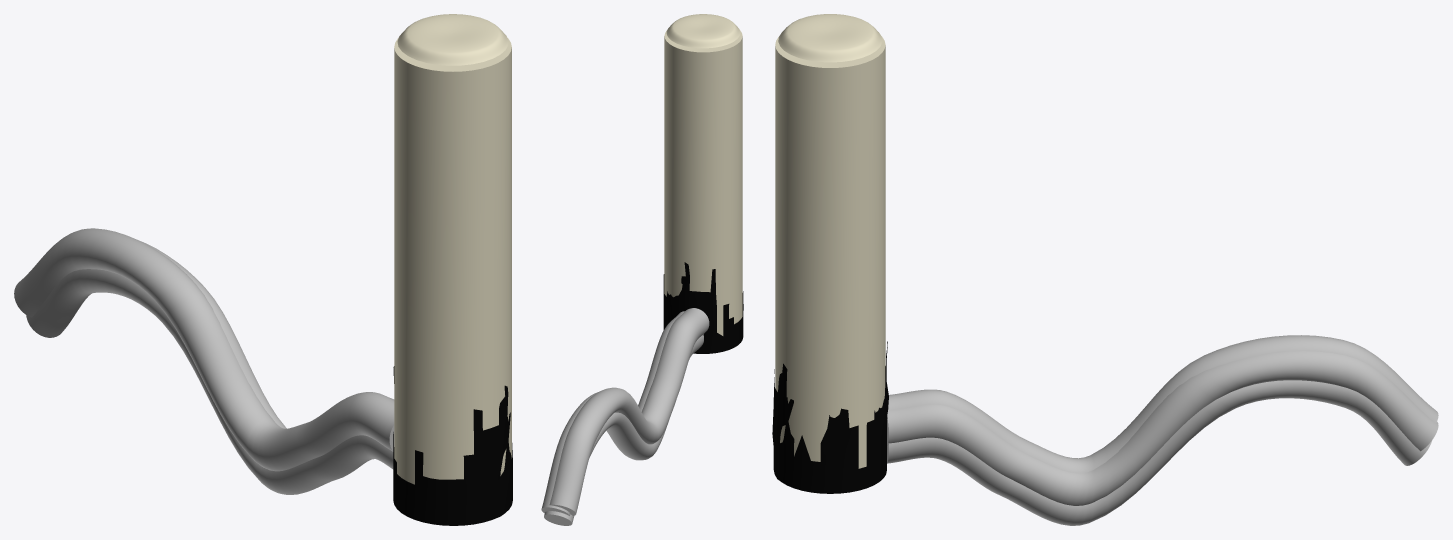
3 renders of one model, left to right at view 1: azimuth 30°, elevation 25°; view 2: azimuth 150°, elevation 25°; view 3: azimuth 270°, elevation 25°, orthographic. The views are drawn at different scales.
Visible parts, largest first — view 1: TowerBase, Cilinder2_2, Cilinder2, Cilindro_1, Loft_3, Cilinder; view 2: TowerBase, Cilinder2_2, Cilindro_1, Loft_3, Cilinder2, Cilinder; view 3: TowerBase, Cilinder, Cilinder2, Cilinder2_2, Cilindro_1, Loft_3.
Part boxes in pixels (left/top/right/bottom): TowerBase: left=394, top=38, right=511, bottom=484; Cilinder2_2: left=14, top=228, right=394, bottom=471; Cilinder2: left=26, top=269, right=393, bottom=494; Cilindro_1: left=393, top=366, right=512, bottom=525; Loft_3: left=397, top=14, right=508, bottom=65; Cilinder: left=140, top=241, right=394, bottom=428; TowerBase: left=664, top=30, right=742, bottom=335; Cilinder2_2: left=549, top=308, right=709, bottom=513; Cilindro_1: left=663, top=262, right=743, bottom=353; Loft_3: left=666, top=14, right=740, bottom=48; Cilinder2: left=544, top=334, right=703, bottom=522; Cilinder: left=541, top=311, right=684, bottom=515; TowerBase: left=775, top=37, right=885, bottom=468; Cilinder: left=887, top=351, right=1438, bottom=505; Cilinder2: left=887, top=380, right=1431, bottom=525; Cilinder2_2: left=888, top=335, right=1438, bottom=473; Cilindro_1: left=772, top=341, right=888, bottom=493; Loft_3: left=778, top=14, right=882, bottom=62.
Bounding box in the file's own units: 220 × 661 × 780.
